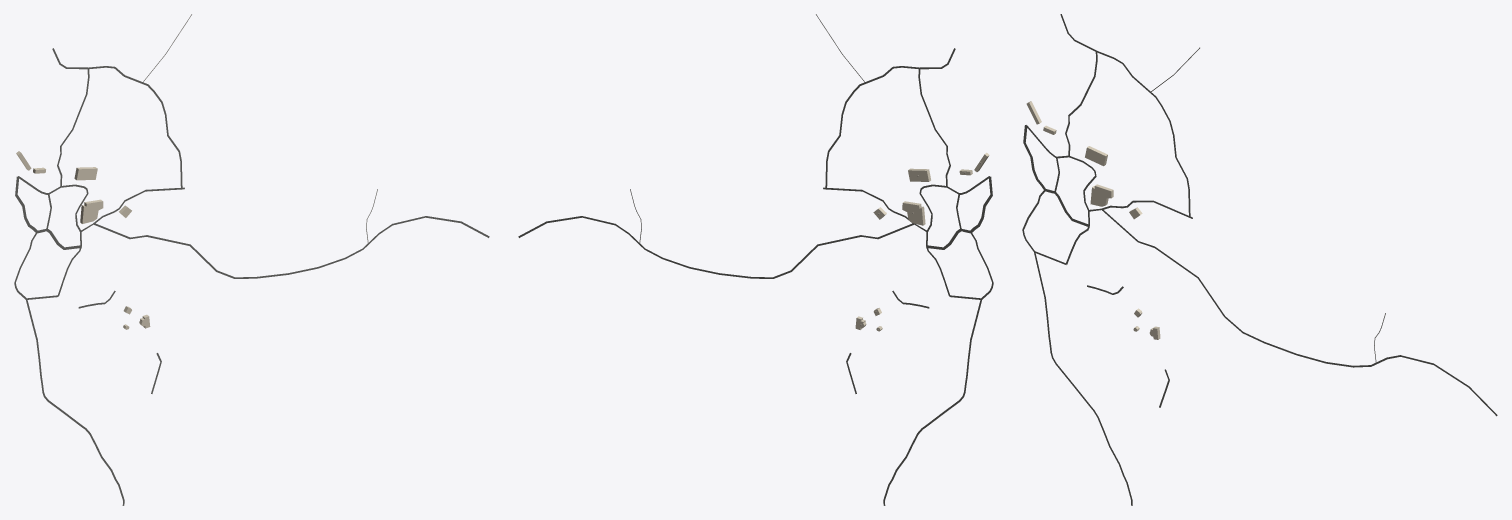
The model's file is historic-palestine-09_24_3511_3185.glb.
3 views of the same model, side by side, from view 1: azimuth 30°, elevation 25°; view 2: azimuth 150°, elevation 25°; view 3: azimuth 330°, elevation 25° (orthographic).
Visible parts, largest first — view 1: Road .002, Road .003, Road .009; view 2: Road .002, Road .003, Road .009; view 3: Road .002, Road .003, Road .009.
Part boxes in pixels (left/top/right/bottom): Road .002: left=81, top=216, right=489, bottom=278; Road .003: left=14, top=232, right=124, bottom=505; Road .009: left=52, top=48, right=182, bottom=188; Road .002: left=518, top=216, right=926, bottom=278; Road .003: left=883, top=232, right=993, bottom=505; Road .009: left=825, top=48, right=955, bottom=188; Road .002: left=1088, top=208, right=1497, bottom=416; Road .003: left=1022, top=190, right=1132, bottom=505; Road .009: left=1060, top=14, right=1190, bottom=216.
Size of the model in its own units: 914 by 872 by 8.7.
